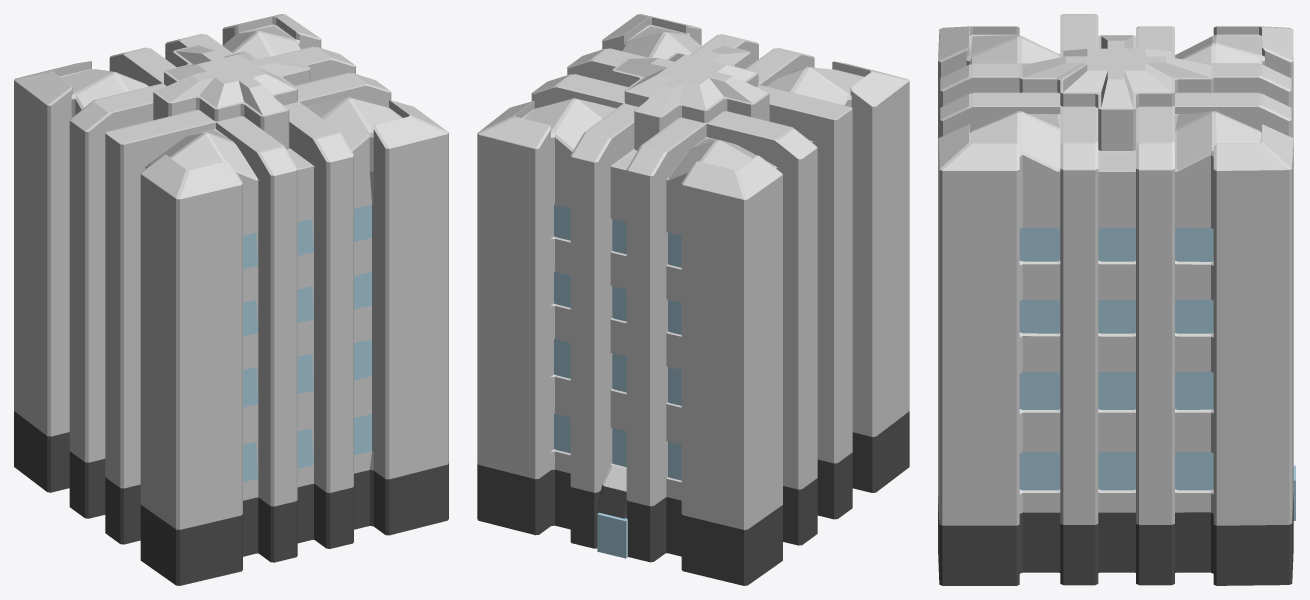
The model's file is Building11.fbx.
3 views of the same model, side by side, from view 1: azimuth 30°, elevation 25°; view 2: azimuth 150°, elevation 25°; view 3: azimuth 270°, elevation 25° (orthographic). The views are drawn at different scales.
Parts seen in each view (by area): view 1: Cube.036, Cube.076, Cube.037; view 2: Cube.036, Cube.076, Cube.037, Cube.038; view 3: Cube.036, Cube.076, Cube.037.
Boxes of the visible parts, box(x1,y1,x2,y2) form: Cube.036: box(14, 14, 448, 529); Cube.076: box(14, 411, 448, 585); Cube.037: box(243, 204, 371, 482); Cube.036: box(477, 14, 909, 529); Cube.076: box(477, 411, 909, 585); Cube.037: box(554, 204, 681, 480); Cube.038: box(597, 512, 627, 558); Cube.036: box(938, 14, 1293, 525); Cube.076: box(938, 494, 1293, 585); Cube.037: box(1019, 227, 1213, 490).
Size of the model in its own units: 2924 by 4323 by 3080.
